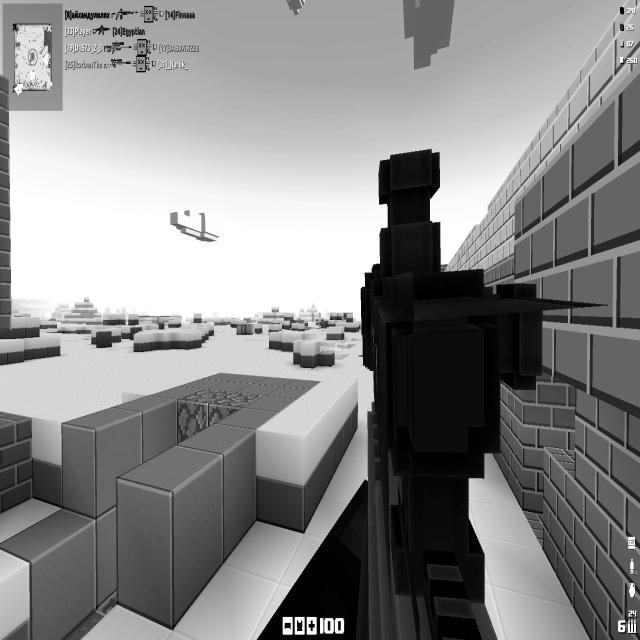Head: (311, 312, 314, 316)
Player: (311, 312, 315, 322)
